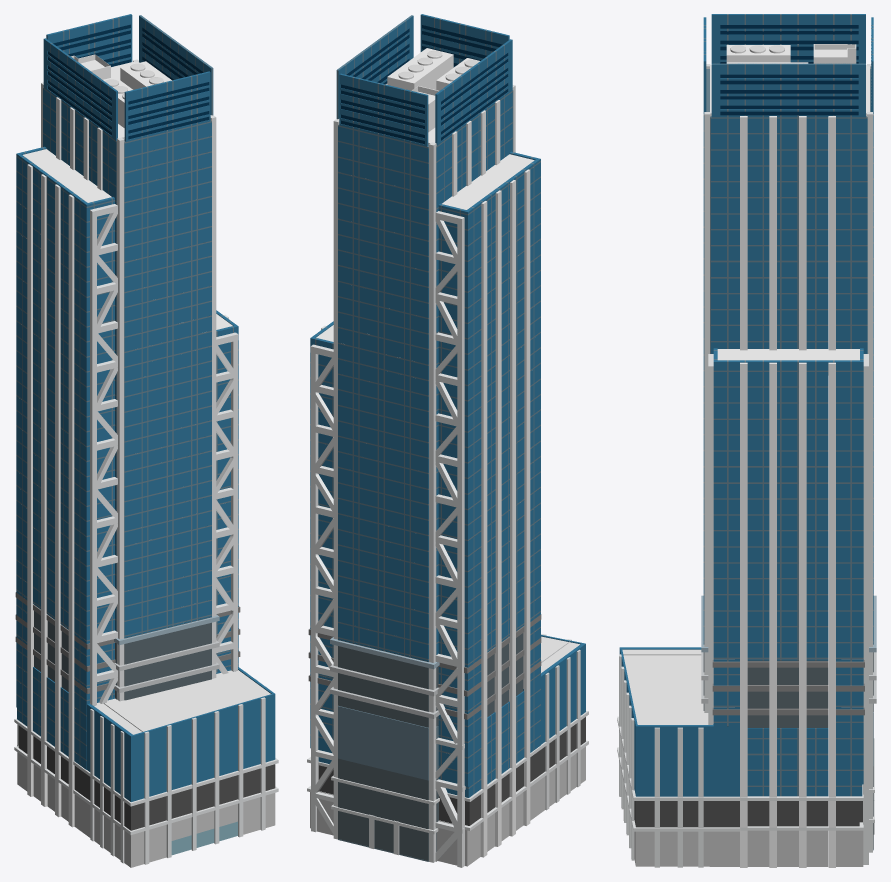
File: b_wtc3.glb
3 renders of one model, left to right at view 1: azimuth 30°, elevation 25°; view 2: azimuth 150°, elevation 25°; view 3: azimuth 270°, elevation 25°, orthographic. The views are drawn at different scales.
Visible parts, largest first — view 1: Object_11, Object_5, Object_10, Object_8, Object_2, Object_9, Object_14, Object_6, Object_13, Object_12, Object_3, Object_7 (+1 smaller); view 2: Object_11, Object_5, Object_10, Object_8, Object_14, Object_9, Object_2, Object_13, Object_12, Object_3, Object_6, Object_4 (+1 smaller); view 3: Object_11, Object_8, Object_5, Object_10, Object_2, Object_9, Object_6, Object_13, Object_14, Object_12.
Boxes of the visible parts, x1,y1,x2,y2 form: Object_11: (16,14,275,801); Object_5: (14,59,278,864); Object_10: (16,15,238,764); Object_8: (23,54,232,827); Object_2: (17,752,275,867); Object_9: (47,24,208,139); Object_14: (34,607,211,700); Object_6: (94,670,270,734); Object_13: (18,725,275,830); Object_12: (15,592,240,693); Object_3: (113,640,219,693); Object_7: (171,821,237,855); Object_11: (310,14,585,797); Object_5: (307,85,588,867); Object_10: (310,15,540,861); Object_8: (316,48,534,857); Object_14: (338,633,523,860); Object_9: (341,25,507,144); Object_2: (310,746,585,866); Object_13: (318,717,585,825); Object_12: (308,614,541,719); Object_3: (330,664,439,718); Object_6: (541,636,579,672); Object_4: (398,50,478,81); Object_11: (619,14,873,796); Object_8: (710,44,869,867); Object_5: (617,64,874,867); Object_10: (703,14,873,850); Object_2: (634,830,863,866); Object_9: (720,25,858,115); Object_6: (622,649,708,724); Object_13: (634,726,862,827); Object_14: (703,644,873,848); Object_12: (712,659,864,715).
Size of the model in its own units: 38.75 by 174 by 51.92.
